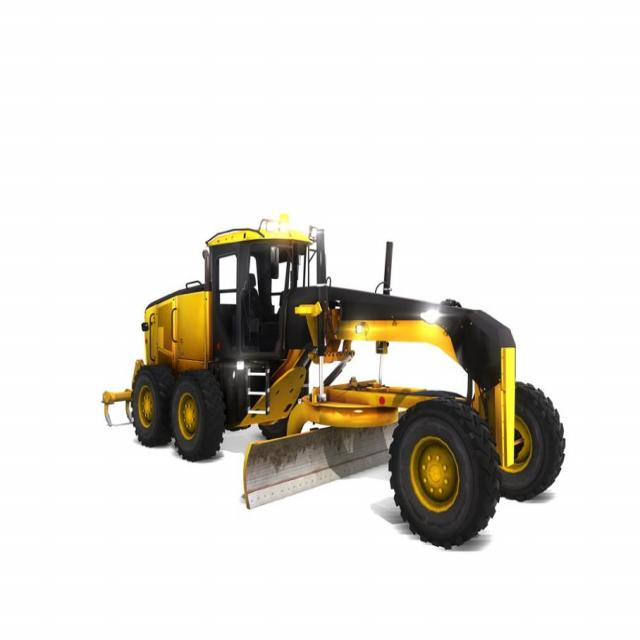Grader: (89, 220, 564, 556)
